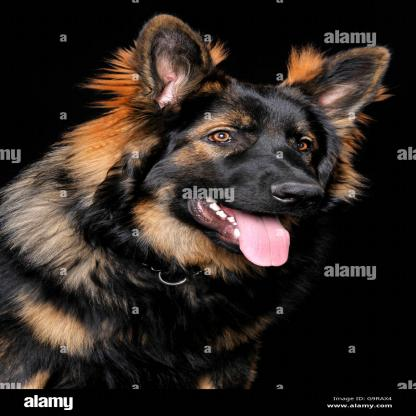german shepherd: (0, 19, 387, 393)
